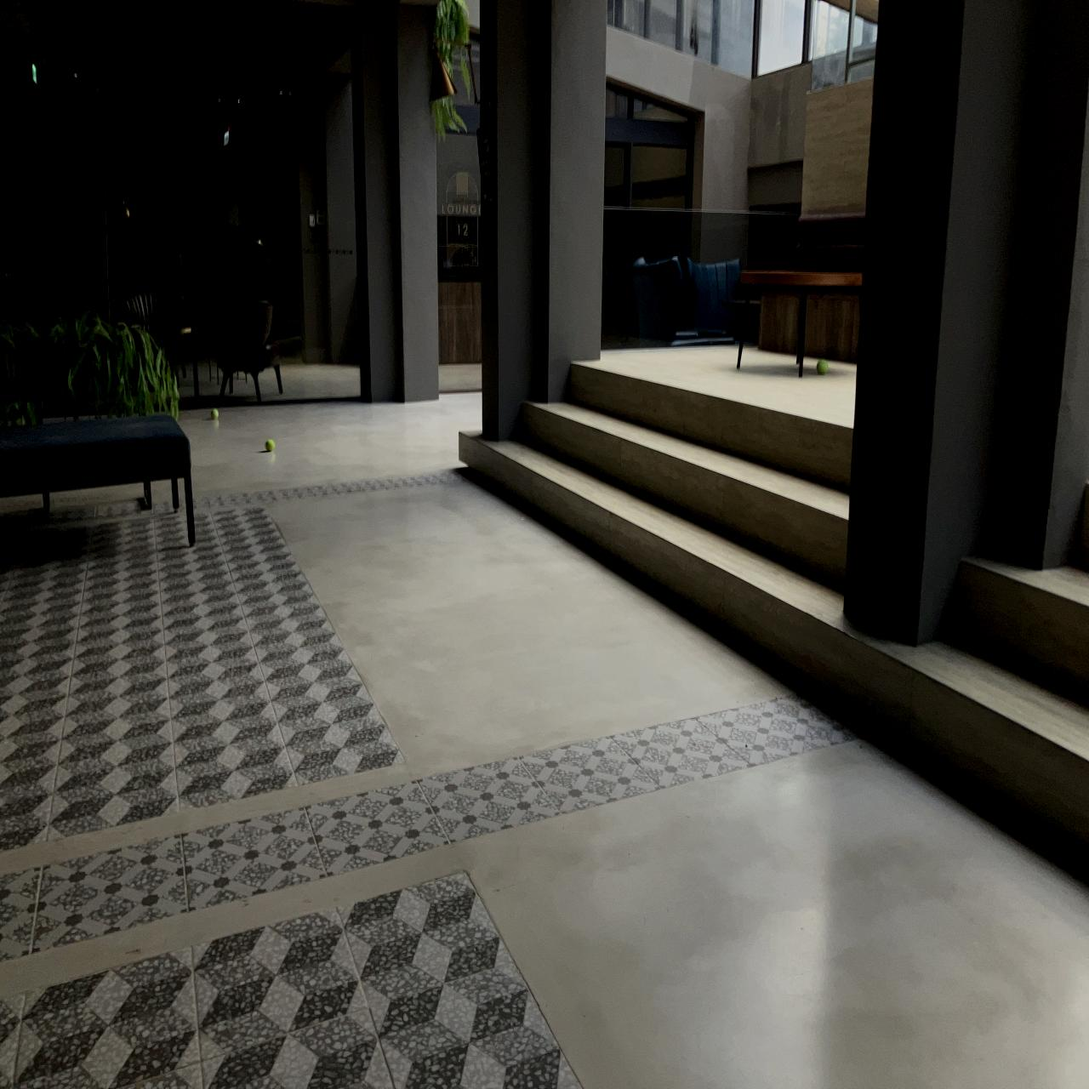tennisball: (816, 359, 829, 375), (265, 439, 275, 452), (210, 408, 219, 419)
